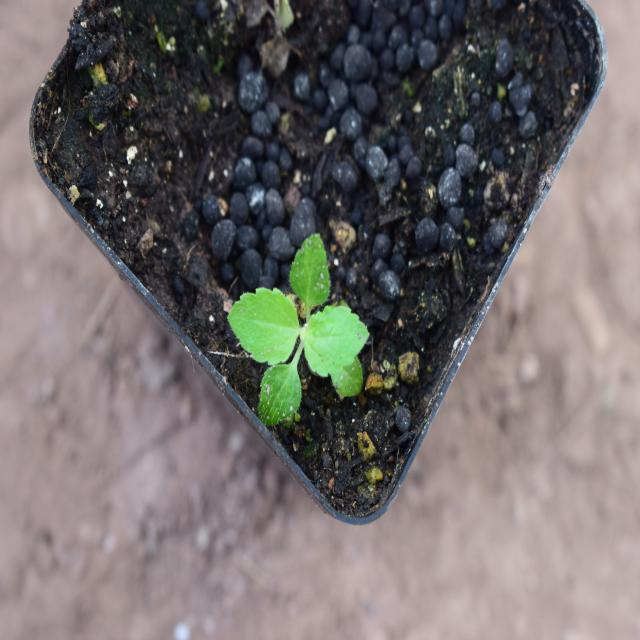billygoat_weed: (218, 222, 361, 434)
